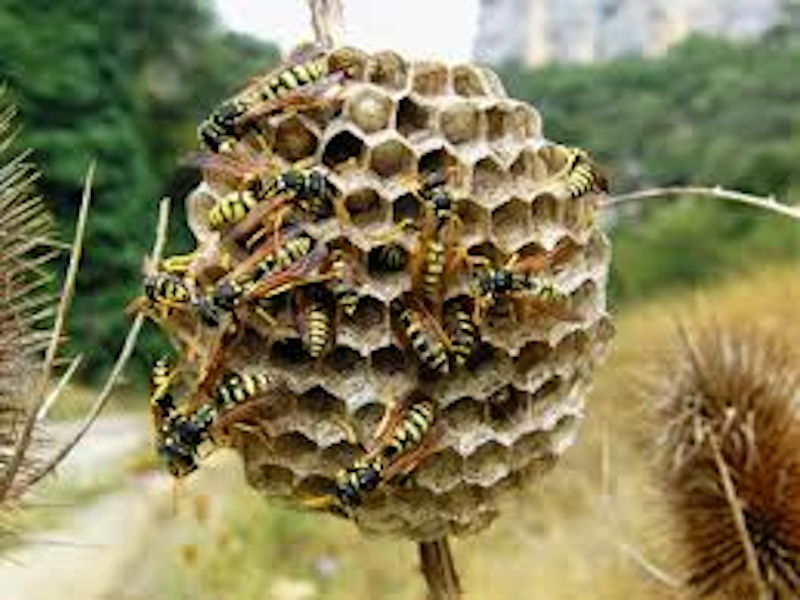chax: (308, 384, 465, 523), (112, 367, 296, 480), (205, 222, 340, 318), (191, 61, 337, 149), (211, 163, 349, 230), (545, 142, 617, 223)
